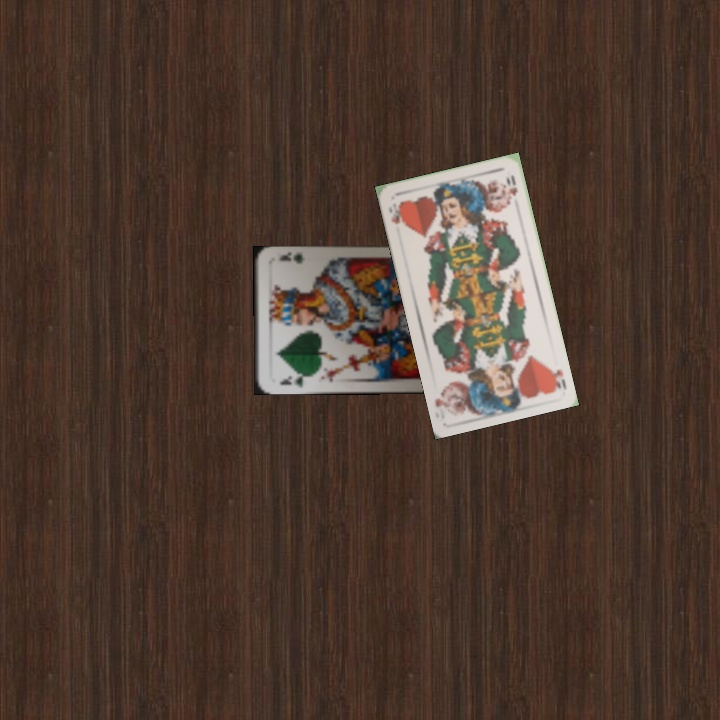GK: (276, 370, 309, 390)
HO: (545, 362, 569, 392), (385, 197, 407, 226)
